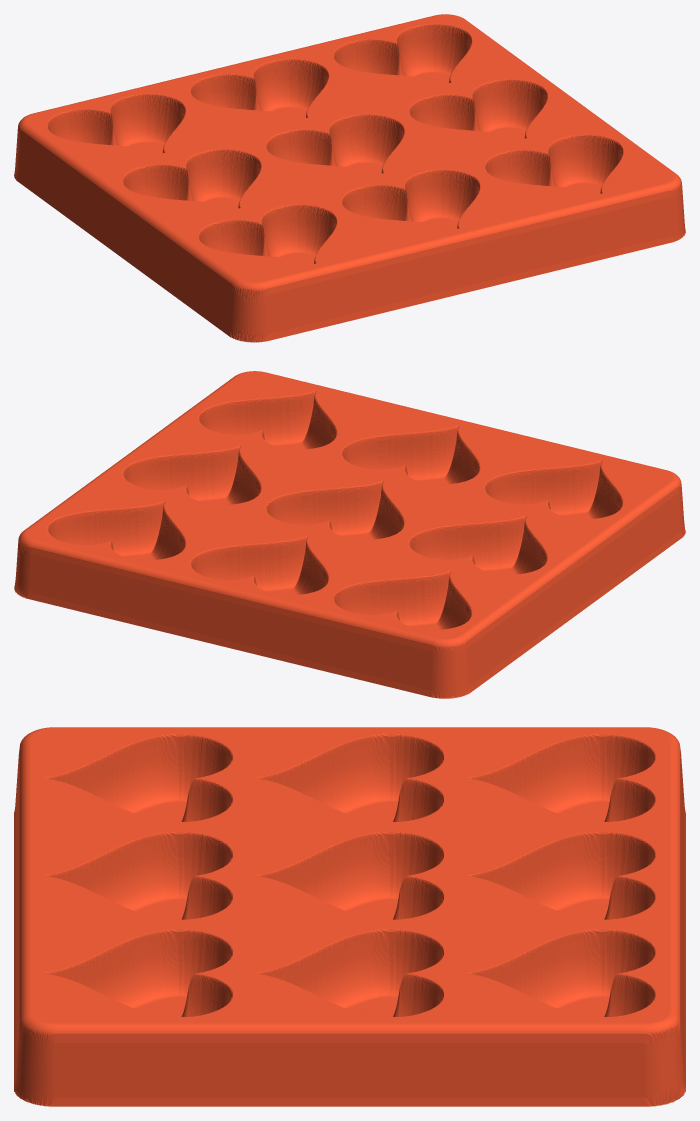
File: mold.glb
The picture shows the model from 3 angles, top to bottom: view 1: azimuth 30°, elevation 25°; view 2: azimuth 150°, elevation 25°; view 3: azimuth 270°, elevation 25°; orthographic projection. The views are drawn at different scales.
Parts seen in each view (by area): view 1: geometry_0; view 2: geometry_0; view 3: geometry_0.
Part boxes in pixels (left/top/right/bottom): geometry_0: left=14, top=14, right=685, bottom=342; geometry_0: left=14, top=371, right=685, bottom=698; geometry_0: left=14, top=727, right=685, bottom=1106.
Size of the model in its own units: 0.1595 by 0.0185 by 0.1467.
